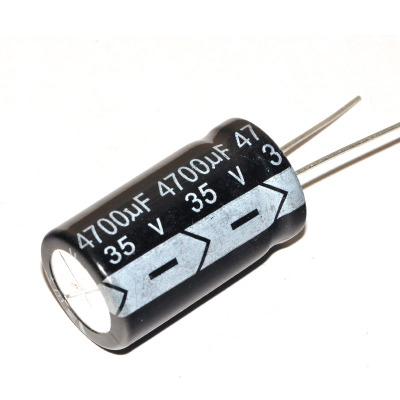capacitor: (28, 82, 329, 373)
